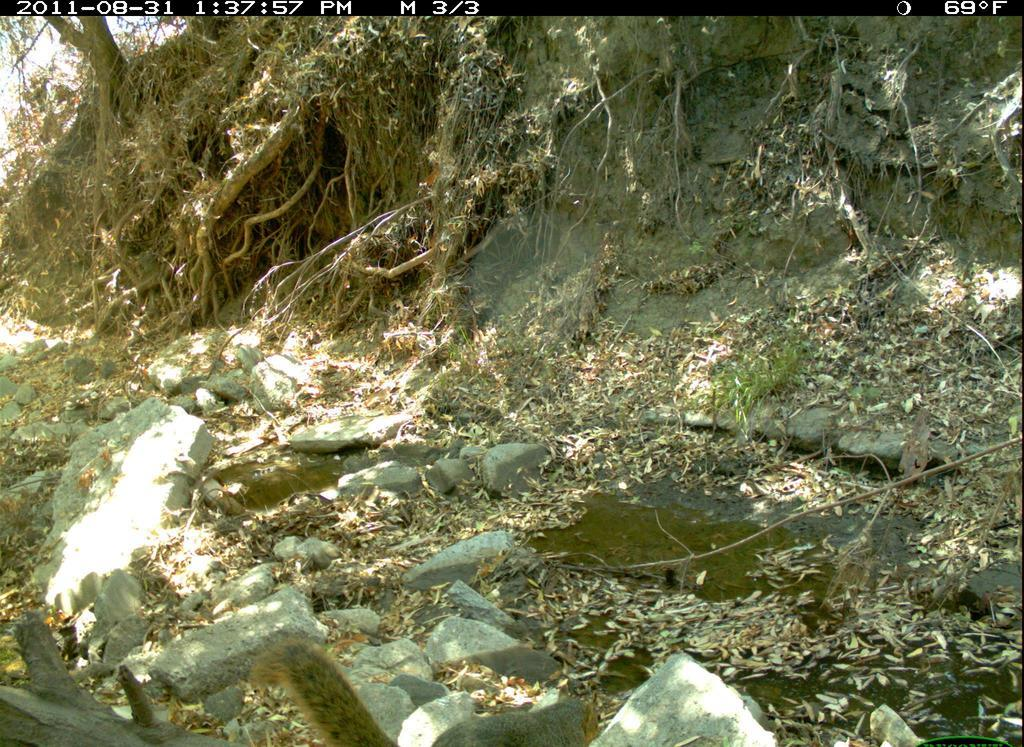squirrel: (244, 638, 609, 747)
